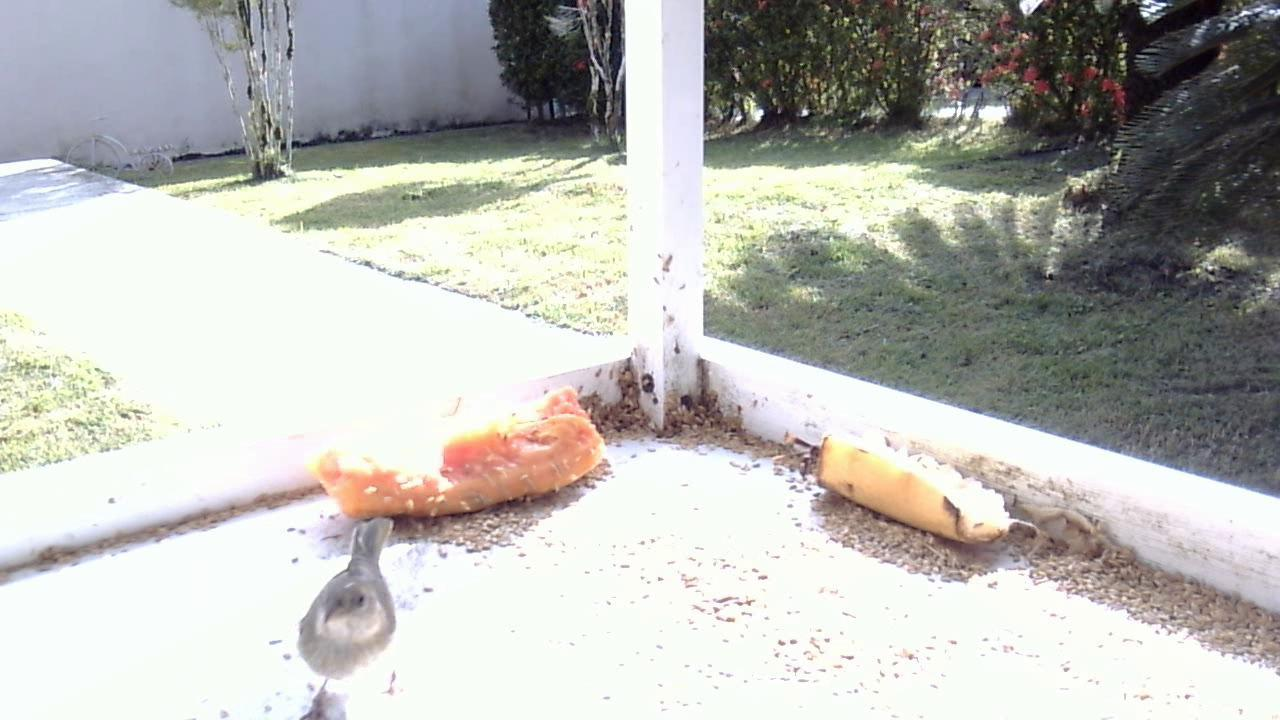canario_do_amazonas: (286, 510, 413, 715)
